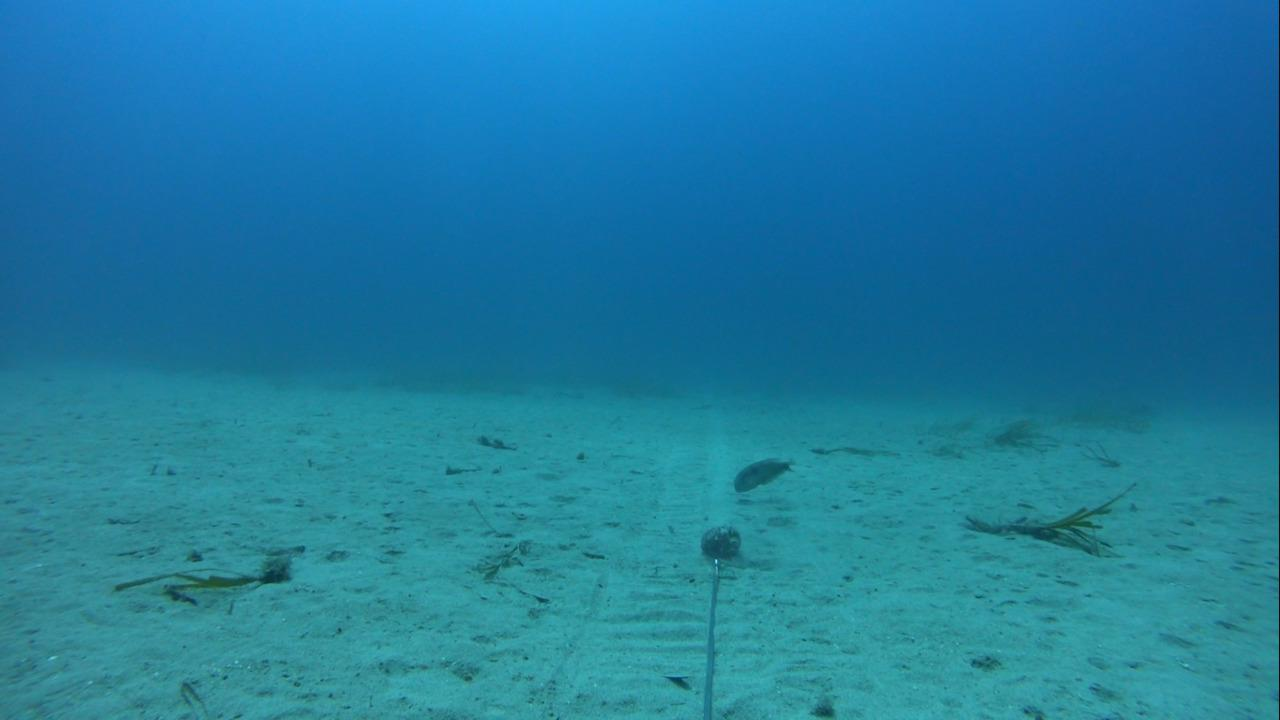raor: (729, 454, 795, 490)
